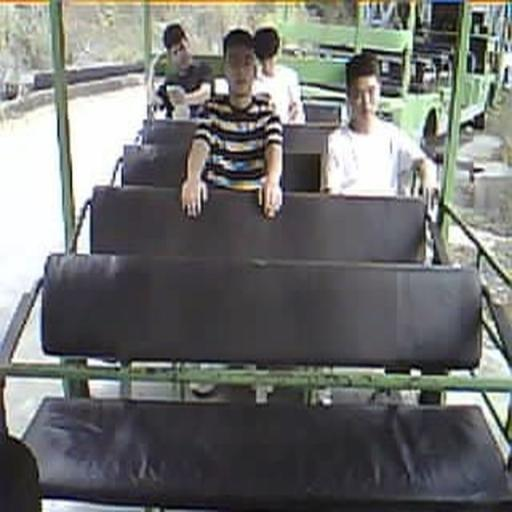persona: (179, 26, 284, 220), (322, 51, 438, 200), (152, 23, 215, 120), (252, 24, 306, 125)
